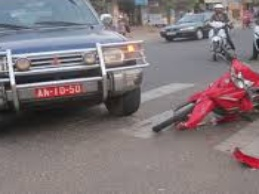plate: (32, 82, 85, 98)
